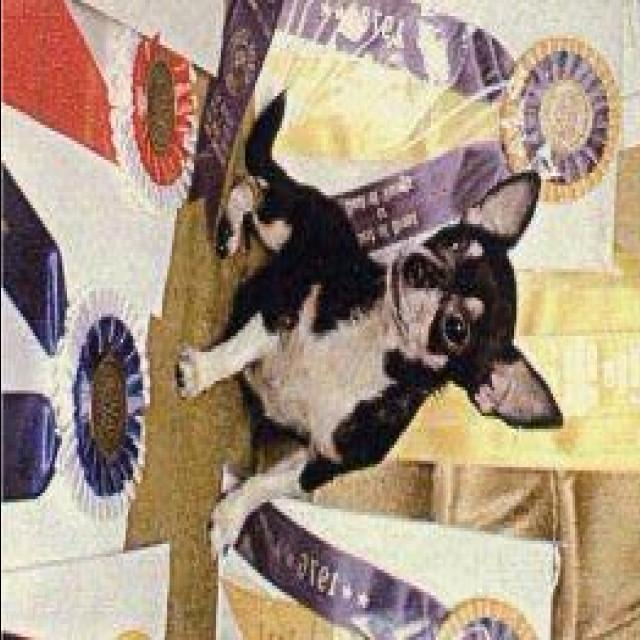chihuahua: (161, 84, 574, 554)
